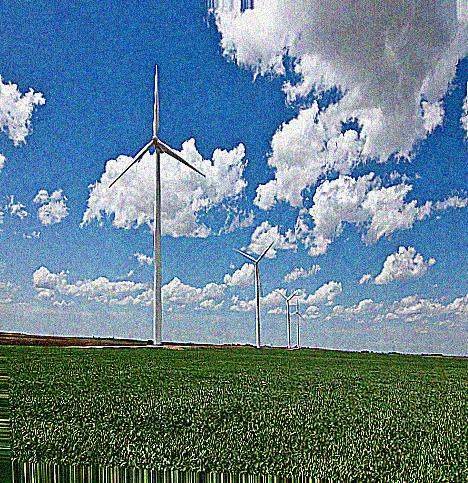wind turbine: (109, 63, 209, 356), (232, 238, 274, 346), (274, 290, 298, 348)
